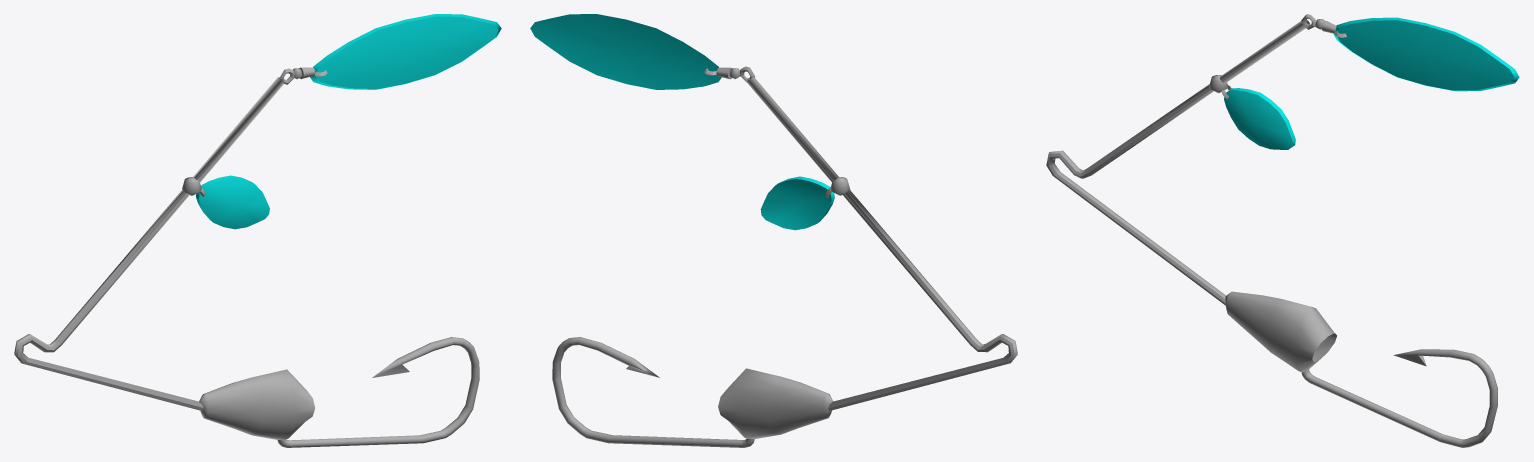
The model's file is SpinnerOBJ.fbx.
3 views of the same model, side by side, from view 1: azimuth 30°, elevation 25°; view 2: azimuth 150°, elevation 25°; view 3: azimuth 330°, elevation 25° (orthographic). The views are drawn at different scales.
Parts seen in each view (by area): view 1: polySurface427; view 2: polySurface427; view 3: polySurface427.
Part boxes in pixels (box(x1,y1,x2,y2)): polySurface427: box(14, 14, 501, 447); polySurface427: box(530, 14, 1017, 447); polySurface427: box(1046, 14, 1519, 447).
Size of the model in its own units: 0.1576 by 0.1323 by 0.0129.
